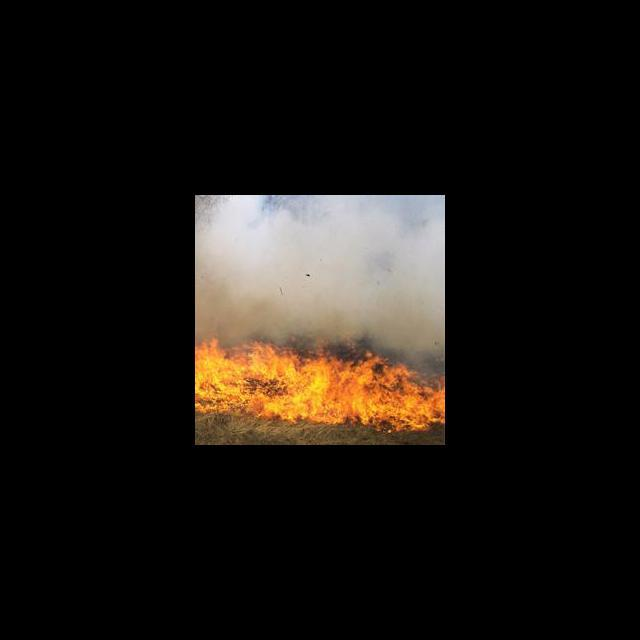Fire: (196, 333, 445, 433)
Smoke: (202, 195, 445, 334)
